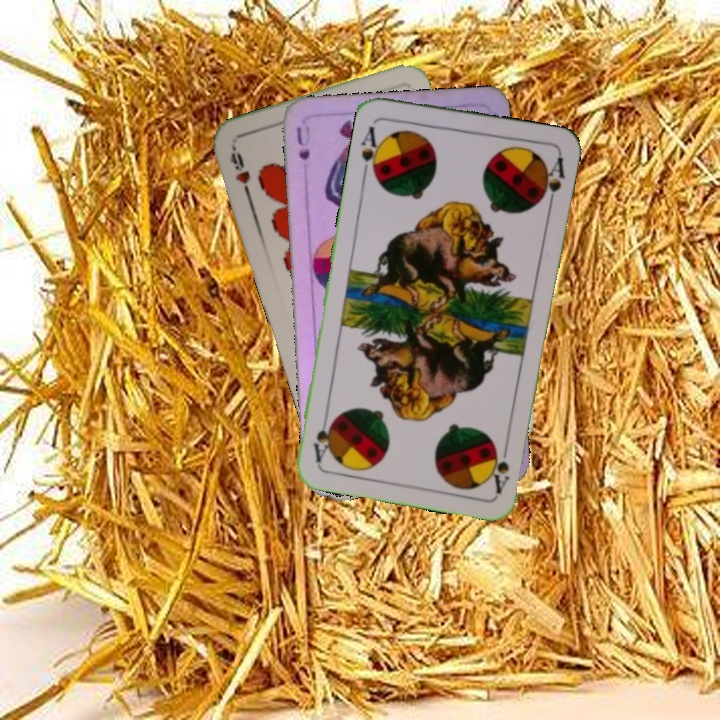H9: (226, 143, 254, 201)
SA: (357, 122, 386, 179), (487, 437, 512, 496)
SU: (292, 122, 313, 163)
